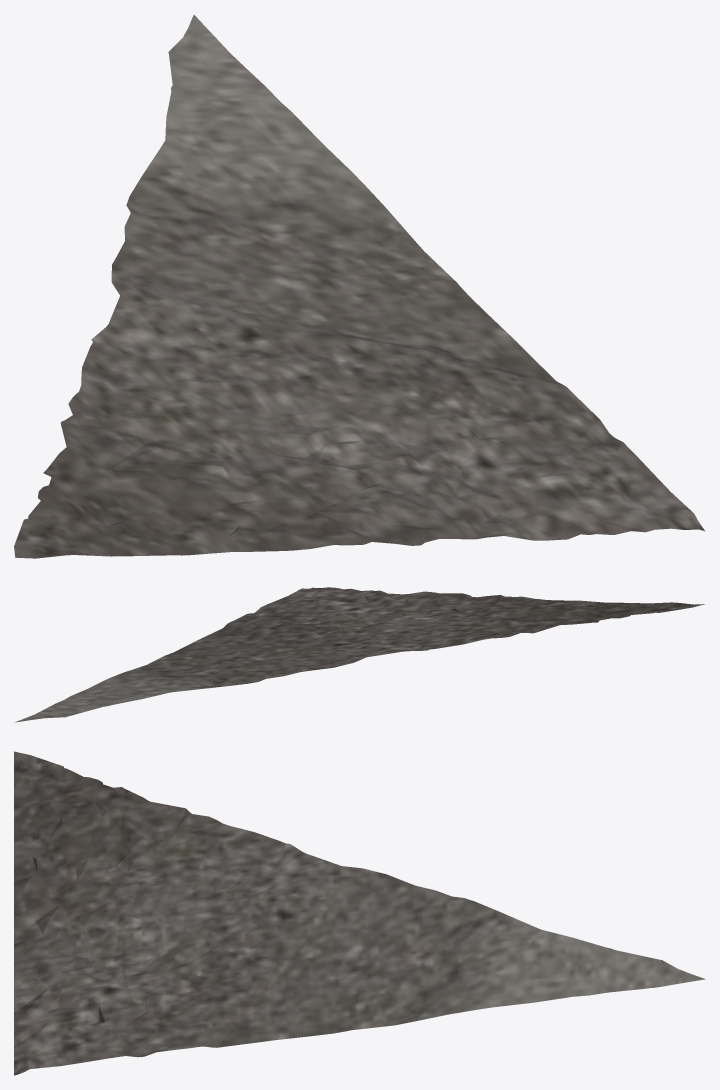
The picture shows the model from 3 angles, top to bottom: view 1: azimuth 30°, elevation 25°; view 2: azimuth 150°, elevation 25°; view 3: azimuth 270°, elevation 25°; orthographic projection. The views are drawn at different scales.
Size of the model in its own units: 0.8303 by 0.1637 by 1.07.
Materials: 1 (1 with a texture image).
